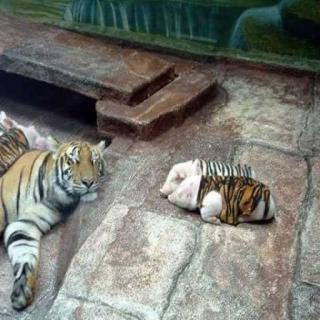Tiger: (0, 130, 121, 299)
